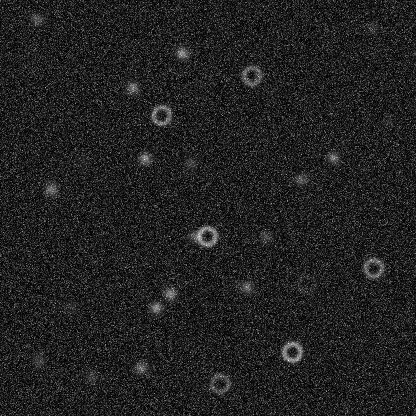Ring: (195, 224, 219, 248), (294, 271, 318, 295), (149, 103, 173, 127), (280, 339, 304, 363), (207, 371, 231, 395), (239, 63, 263, 87), (361, 255, 385, 279)
Spot: (257, 228, 273, 244), (381, 113, 397, 129), (161, 285, 177, 301), (132, 359, 148, 375), (364, 19, 380, 35), (136, 150, 152, 166), (174, 45, 190, 61), (324, 149, 340, 165), (43, 181, 59, 197), (238, 279, 254, 295), (74, 152, 90, 168), (28, 11, 44, 27), (182, 155, 198, 171), (62, 297, 78, 313), (124, 79, 140, 95), (147, 299, 163, 315), (186, 228, 202, 244), (30, 353, 46, 369), (83, 368, 99, 384), (292, 171, 308, 187)
